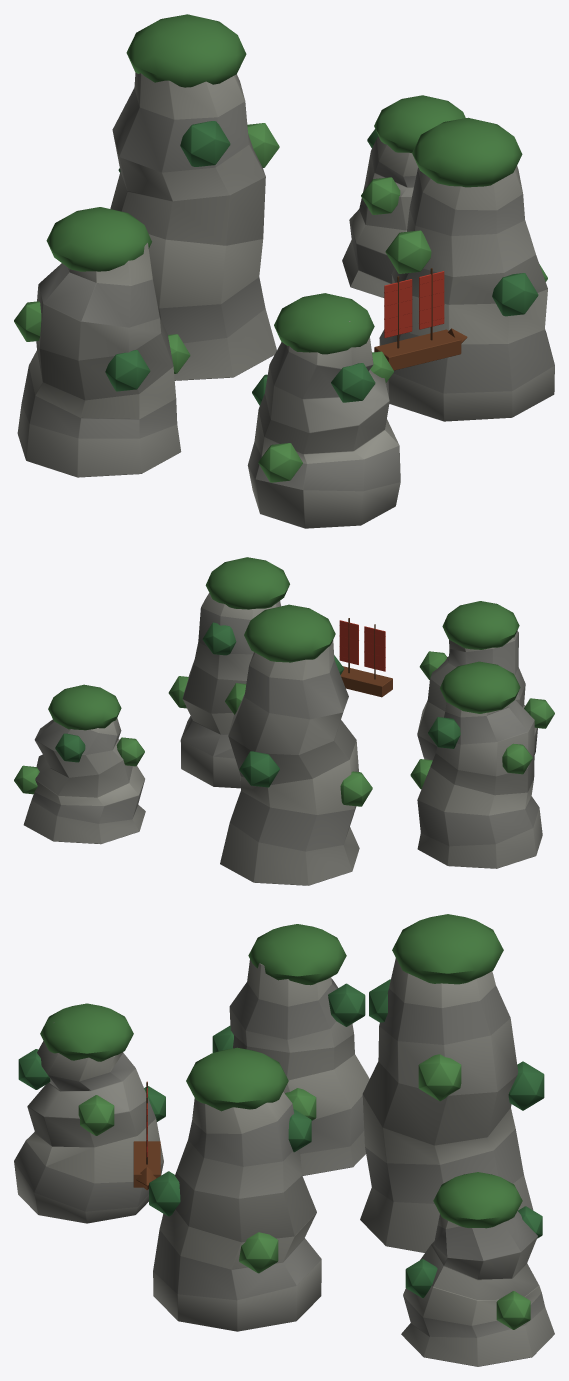
File: lm-halong.glb
3 views of the same model, one above another, from view 1: azimuth 30°, elevation 25°; view 2: azimuth 150°, elevation 25°; view 3: azimuth 270°, elevation 25° (orthographic). The views are drawn at different scales.
Size of the model in its own units: 20.18 by 10.92 by 17.99.
